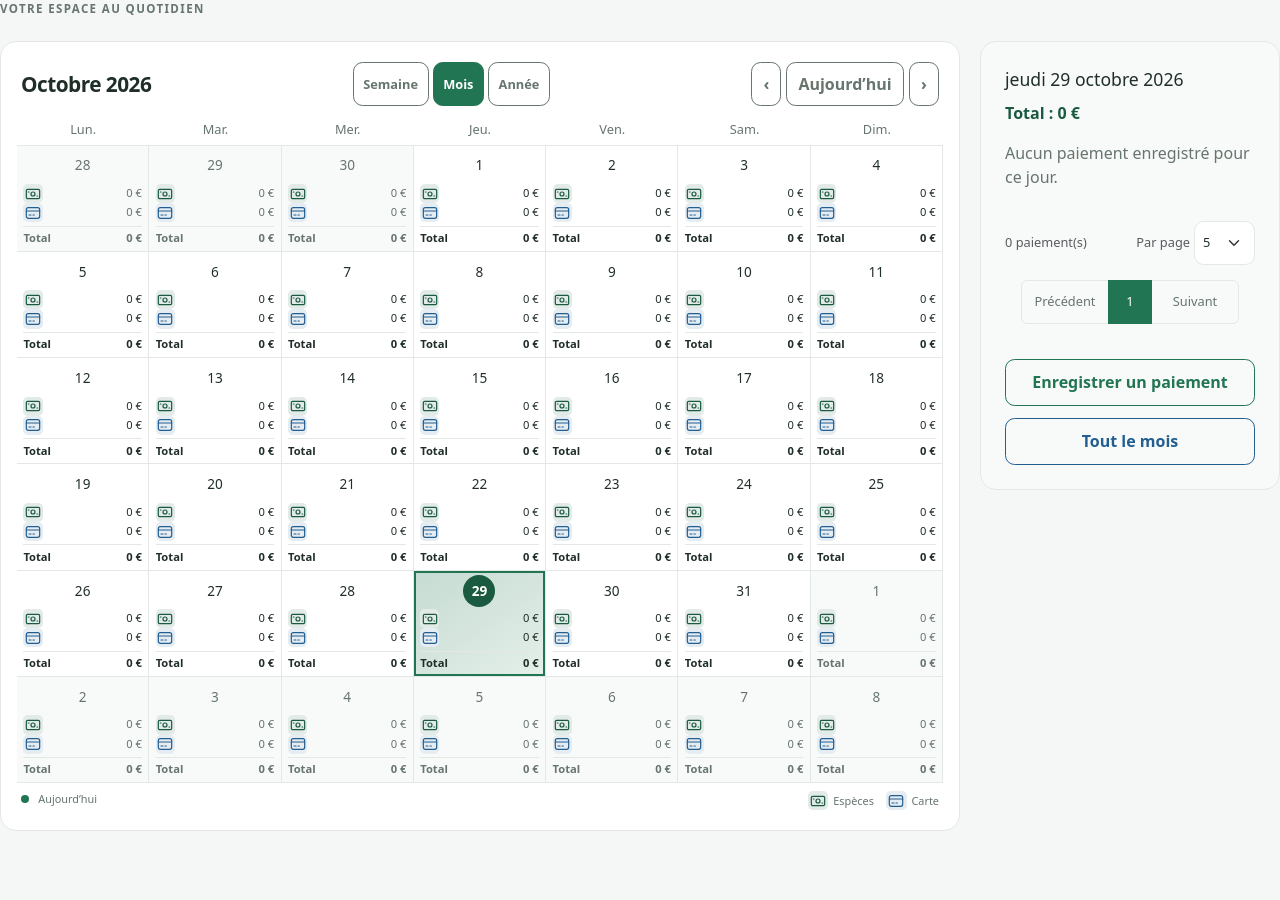
Test: modale : validation Bootstrap et annulation sans création
Expected: the element named "Calendrier " is shown, [17,145,943,782]
Click the button "Enregistrer un paiement": (1130, 382) [1005,359,1255,406]
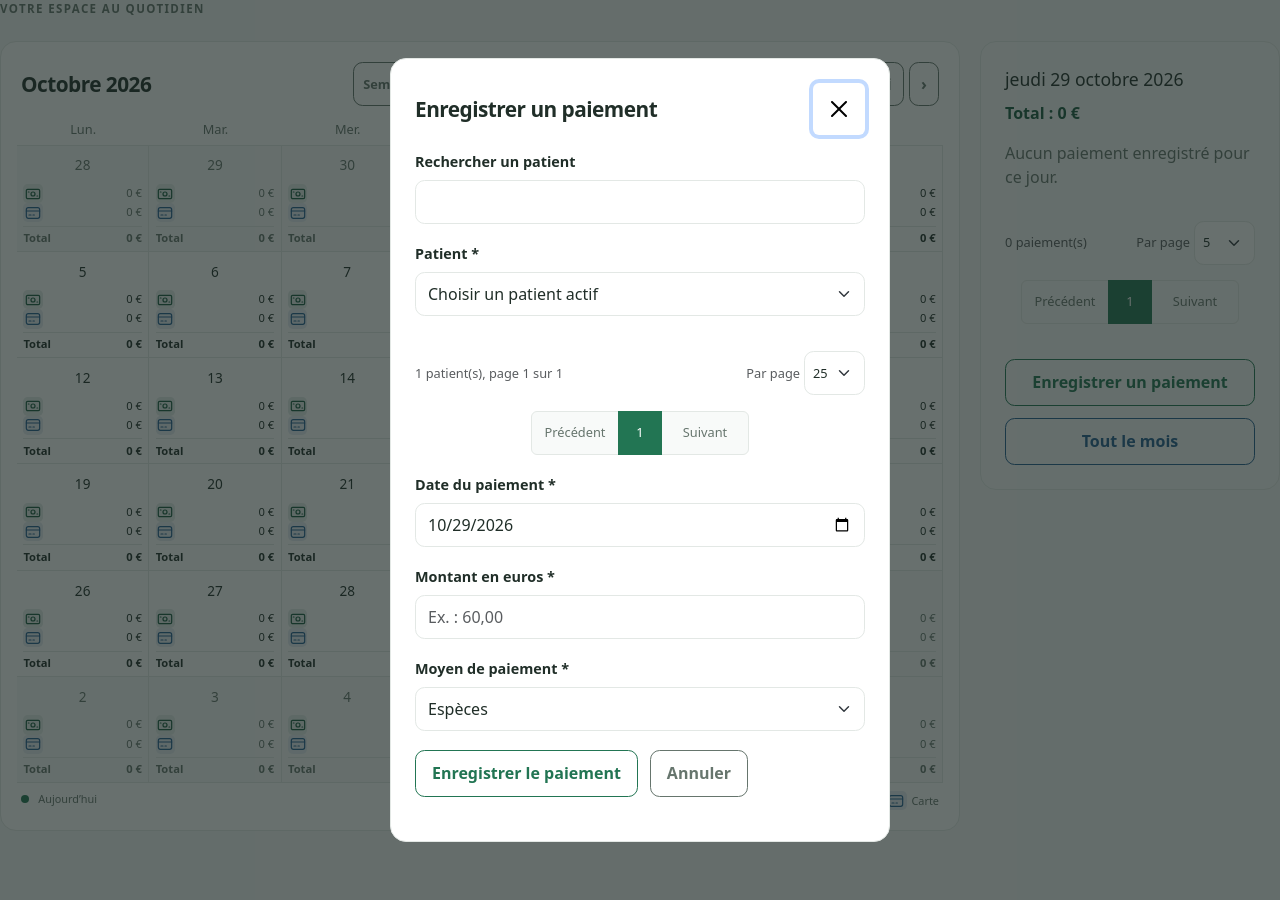
In the field labelled "Montant en euros *": (640, 617) [415,595,865,639], type "0"
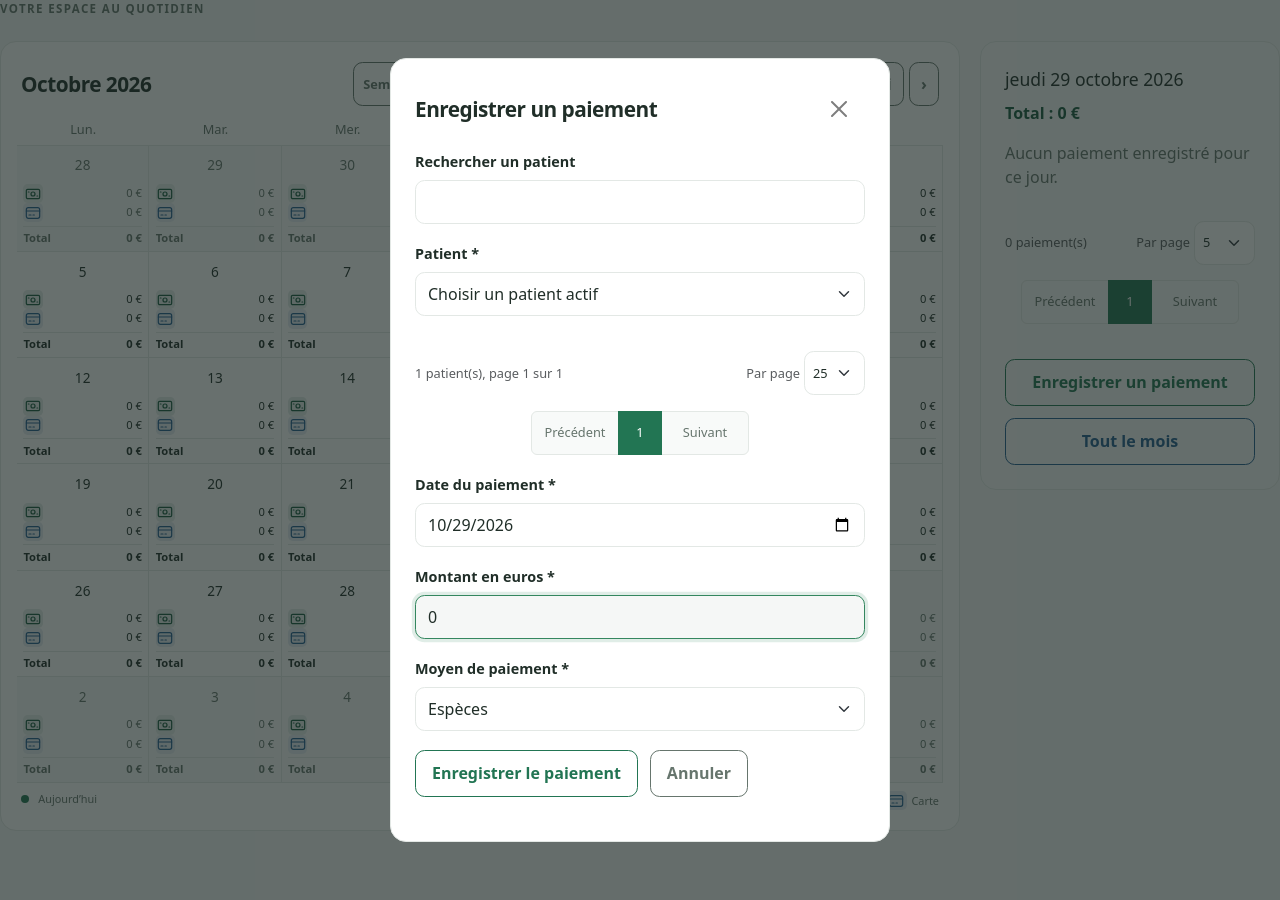
Click the button "Enregistrer le paiement": (526, 773) [415,750,638,797]
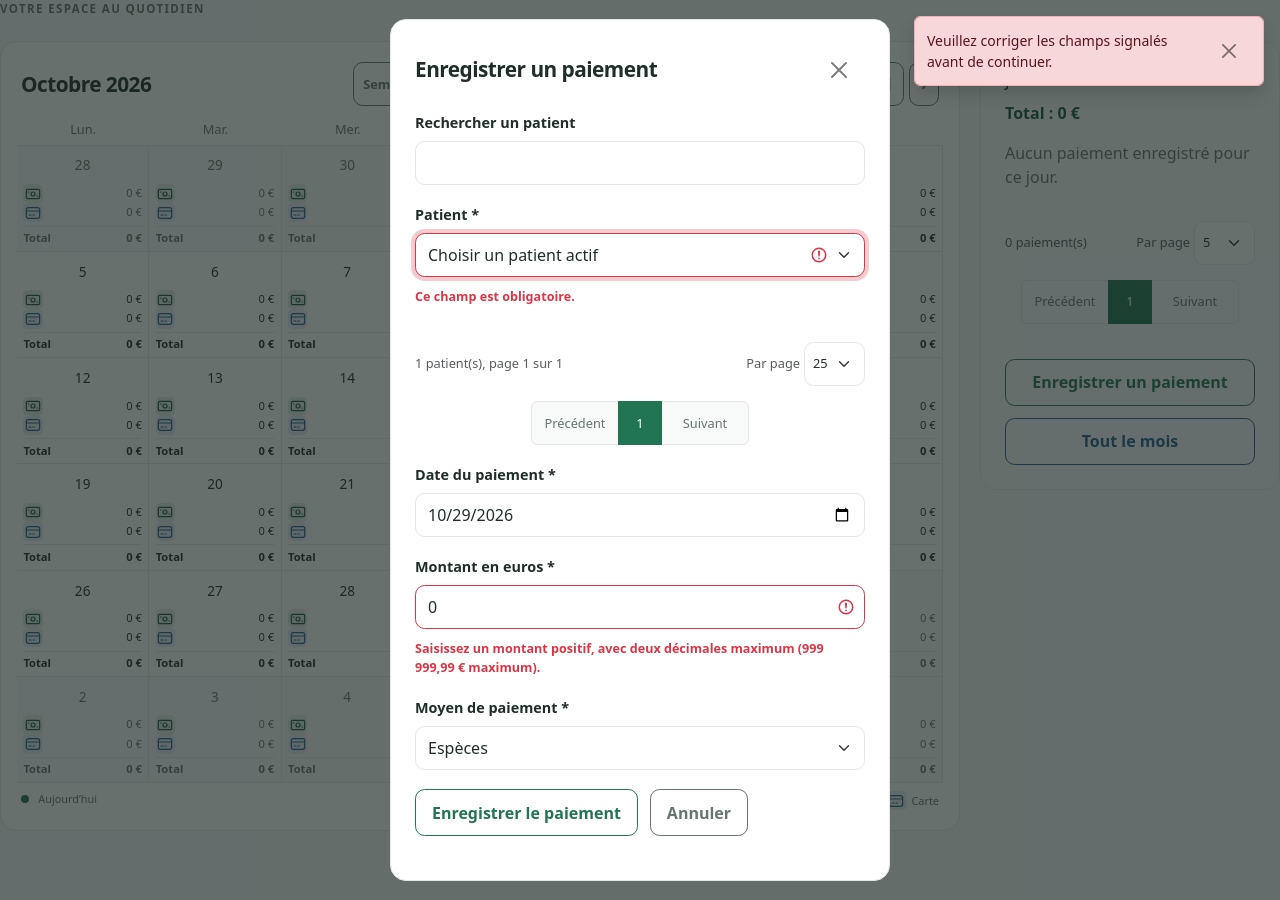
Now the dropdown labelled "Patient *" has class "is-invalid", box [415,233,865,277]
Now the field labelled "Montant en euros *" has class "is-invalid", box [415,585,865,629]
Click the button "Annuler": (699, 813) [650,789,748,836]
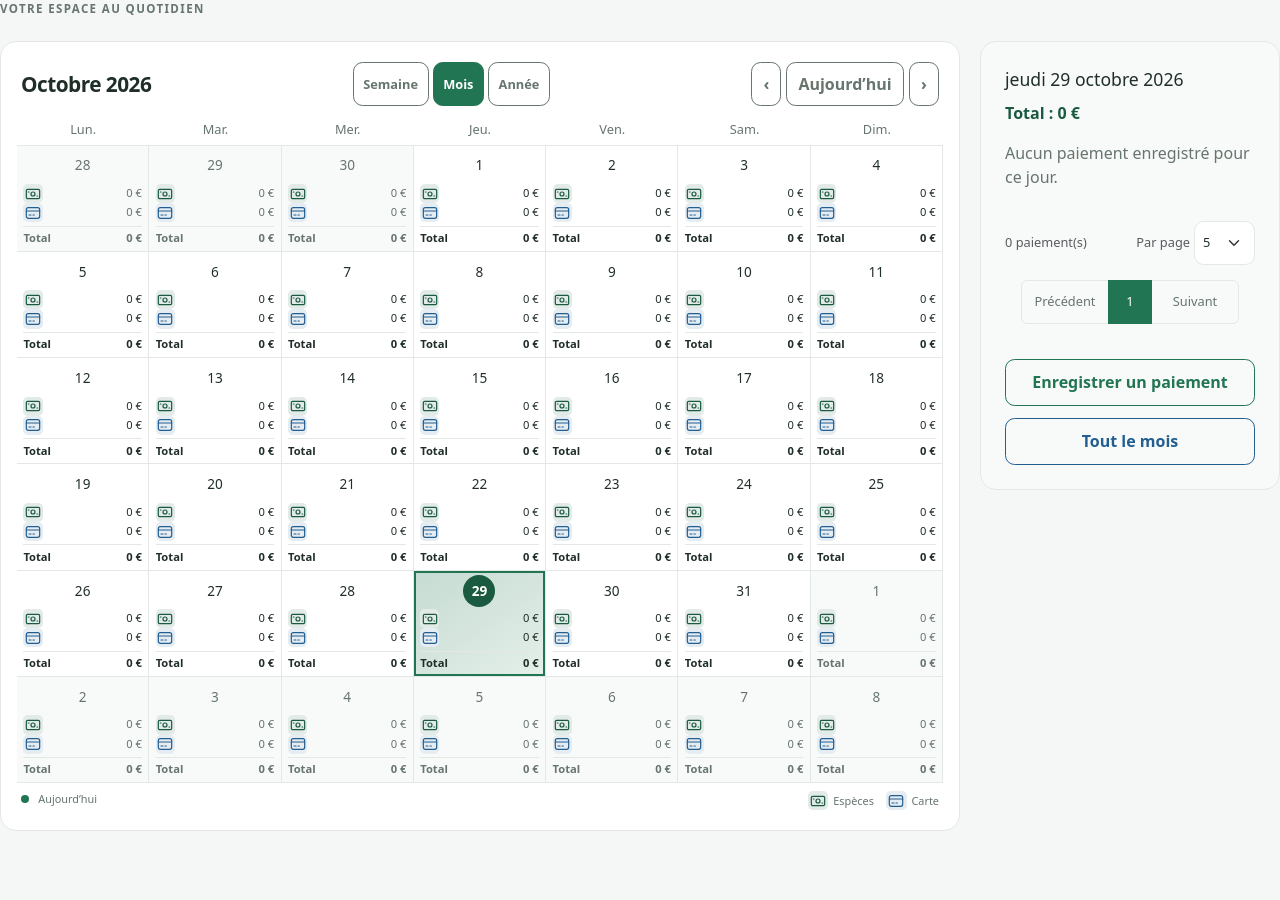
Now the dialog is gone
